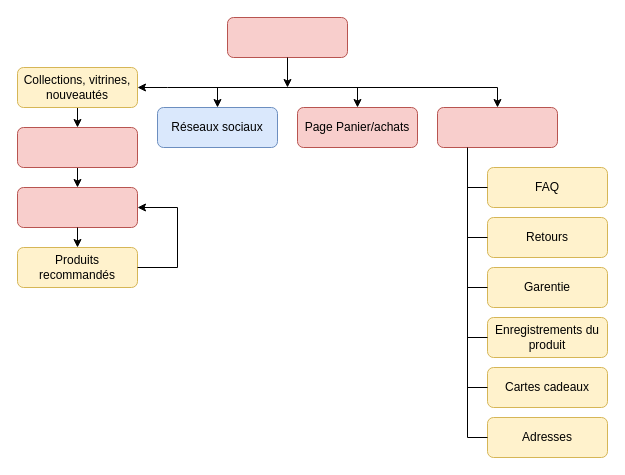
Image size: 625x475. Some labels were removed from this diagram. The shapes that lost their labels are listed below. From the top down, each one's centre as x and y in pixels, then its label:
At (287,37): "Page d'accueil".
At (77,147): "Page archivage produits".
At (497,127): "Page Contact".
At (77,207): "Page du Produit".
